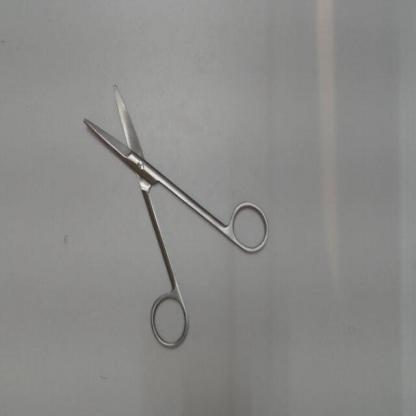Curved Mayo Scissors: (76, 78, 276, 359)
